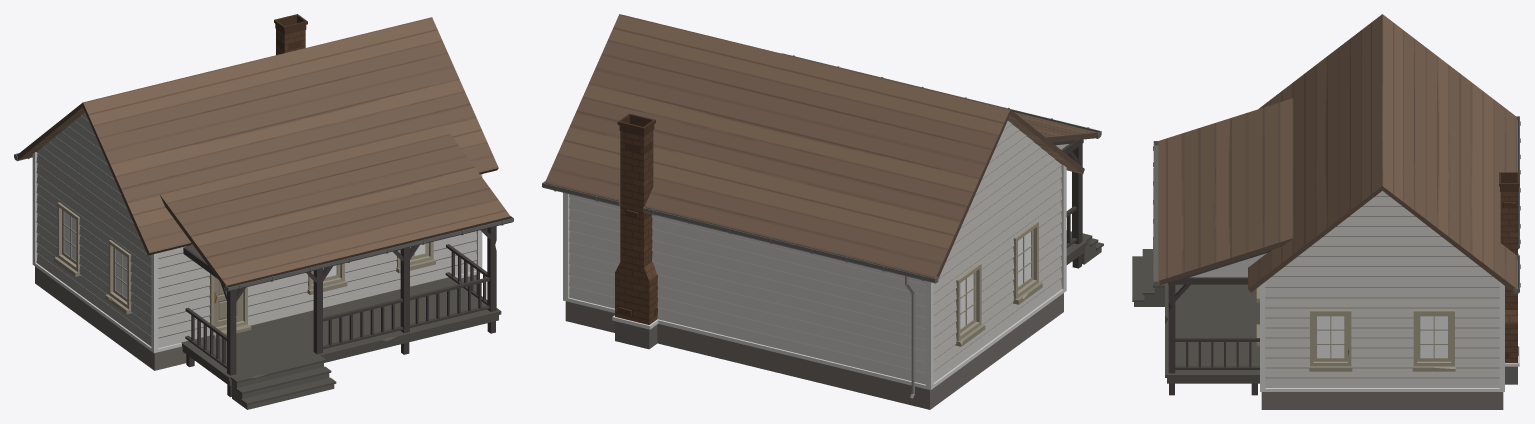
Rendered from SM_Bldg_Farm_House_03.fbx.
3 renders of one model, left to right at view 1: azimuth 30°, elevation 25°; view 2: azimuth 150°, elevation 25°; view 3: azimuth 270°, elevation 25°, orthographic. The views are drawn at different scales.
Visible parts, largest first — view 1: SM_Bldg_Farm_House_03, SM_Bldg_Farm_House_03_Glass, SM_Bldg_Farm_House_03_Door; view 2: SM_Bldg_Farm_House_03, SM_Bldg_Farm_House_03_Glass; view 3: SM_Bldg_Farm_House_03, SM_Bldg_Farm_House_03_Glass.
Part boxes in pixels (box(x1,y1,x2,y2)): SM_Bldg_Farm_House_03: box(14, 14, 513, 409); SM_Bldg_Farm_House_03_Glass: box(64, 211, 425, 297); SM_Bldg_Farm_House_03_Door: box(214, 276, 243, 327); SM_Bldg_Farm_House_03: box(542, 14, 1103, 409); SM_Bldg_Farm_House_03_Glass: box(960, 231, 1030, 328); SM_Bldg_Farm_House_03: box(1132, 14, 1520, 409); SM_Bldg_Farm_House_03_Glass: box(1317, 316, 1447, 357).
Bounding box in the file's own units: 1186 × 735 × 1126.
